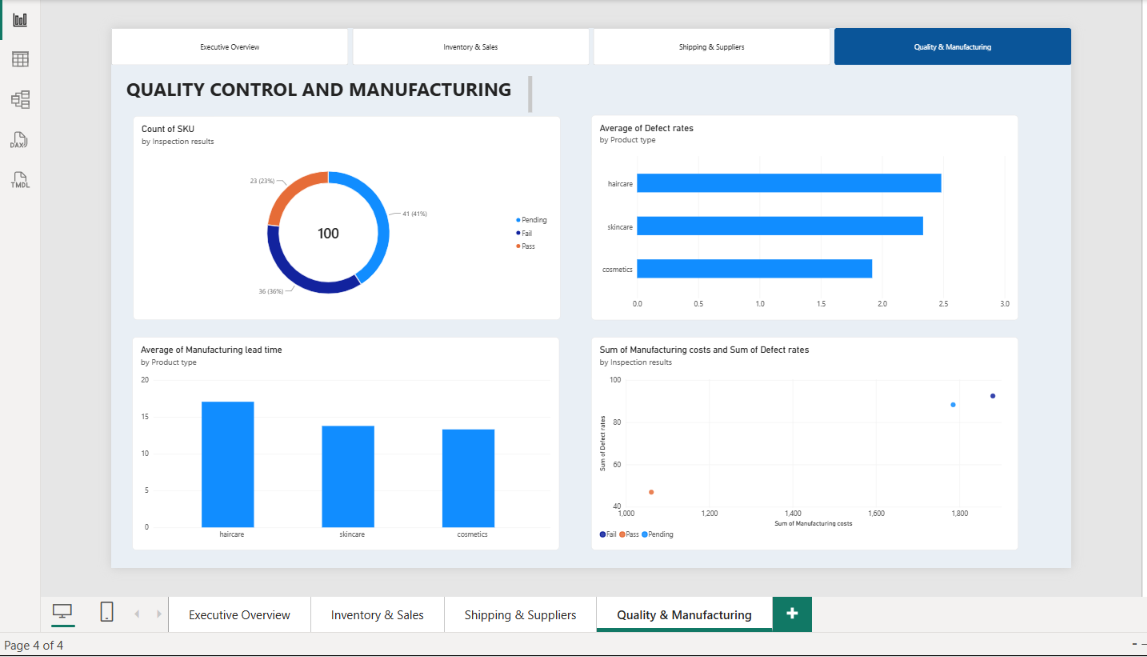

What the dashboard file says about the page in this screenshot:
{"tool":"powerbi","page":{"name":"Quality & Manufacturing","canvas":[1920,1080],"ordinal":3},"visuals":[{"type":"textbox","box":[10,96,832,78],"z":0},{"type":"donutChart","fields":{"Category":["SupplyChainData.Inspection results"],"Y":["CountNonNull(SupplyChainData.SKU)"]},"box":[44,176,854,408],"z":1000},{"type":"clusteredBarChart","fields":{"Category":["SupplyChainData.Product type"],"Y":["Avg(SupplyChainData.Defect rates)"]},"box":[960,174,854,410],"z":2000},{"type":"clusteredColumnChart","fields":{"Category":["SupplyChainData.Product type"],"Y":["Avg(SupplyChainData.Manufacturing lead time)"]},"box":[42,618,854,426],"z":3000},{"type":"scatterChart","fields":{"Series":["SupplyChainData.Inspection results"],"X":["Sum(SupplyChainData.Manufacturing costs)"],"Y":["Sum(SupplyChainData.Defect rates)"]},"box":[960,618,854,426],"z":4000},{"type":"pageNavigator","box":[0,0,1920,74],"z":5000}]}

Visuals, with their boxes on the page's 1920x1080 design canvas (x1, y1, x2, y2). These are canvas units, not pixel positions in the 1147x657 screenshot, which may show the page scaled, cropped or inside an application window:
textbox: [10, 96, 842, 174]
donutChart - SupplyChainData.Inspection results x CountNonNull(SupplyChainData.SKU): [44, 176, 898, 584]
clusteredBarChart - SupplyChainData.Product type x Avg(SupplyChainData.Defect rates): [960, 174, 1814, 584]
clusteredColumnChart - SupplyChainData.Product type x Avg(SupplyChainData.Manufacturing lead time): [42, 618, 896, 1044]
scatterChart - SupplyChainData.Inspection results x Sum(SupplyChainData.Manufacturing costs): [960, 618, 1814, 1044]
pageNavigator: [0, 0, 1920, 74]
